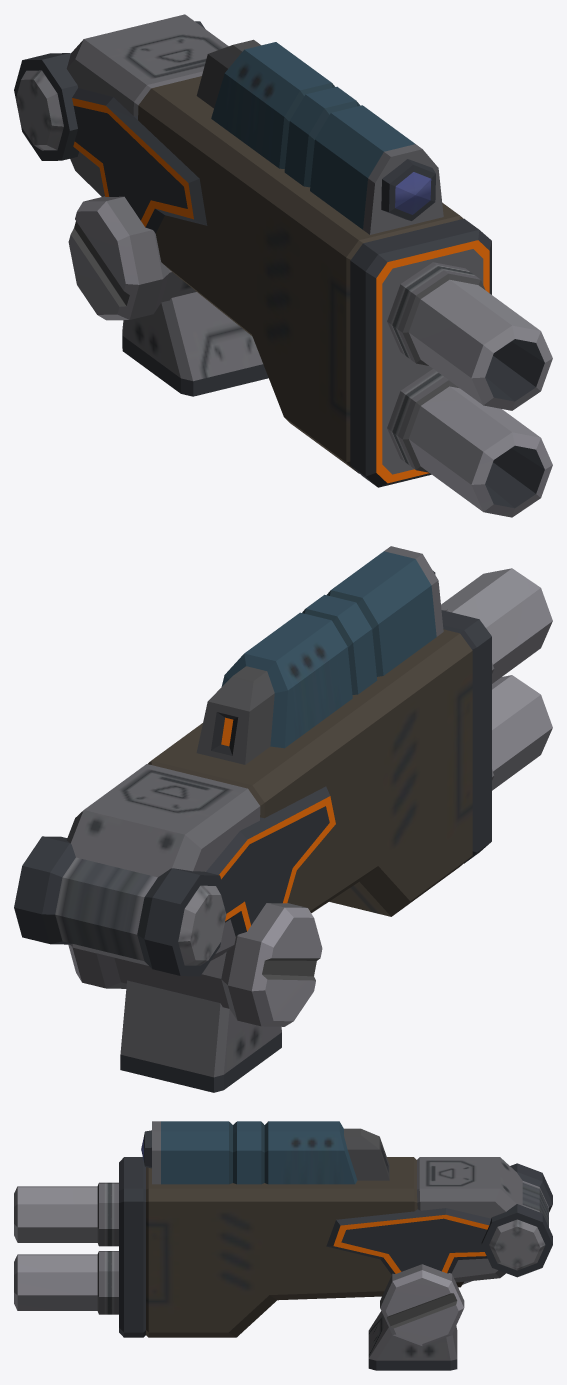
Rendered from mech_SM_Mech_Arm_01_Weapon_Forearm_01.gltf.
3 views of the same model, one above another, from view 1: azimuth 30°, elevation 25°; view 2: azimuth 150°, elevation 25°; view 3: azimuth 270°, elevation 25° (orthographic). The views are drawn at different scales.
Visible parts, largest first — view 1: SM_Mech_Arm_01_Weapon_Forearm_01; view 2: SM_Mech_Arm_01_Weapon_Forearm_01; view 3: SM_Mech_Arm_01_Weapon_Forearm_01.
Boxes of the visible parts, box(x1,y1,x2,y2) form: SM_Mech_Arm_01_Weapon_Forearm_01: box(14, 14, 552, 517); SM_Mech_Arm_01_Weapon_Forearm_01: box(14, 546, 552, 1092); SM_Mech_Arm_01_Weapon_Forearm_01: box(14, 1121, 552, 1370).
Bounding box in the file's own units: 0.3135 × 0.5411 × 1.16.
Materials: 1 (1 with a texture image).
